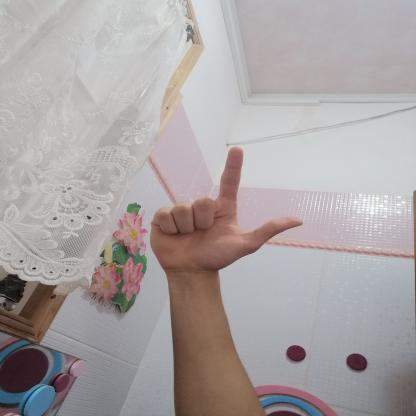LAAM: (133, 137, 314, 280)
